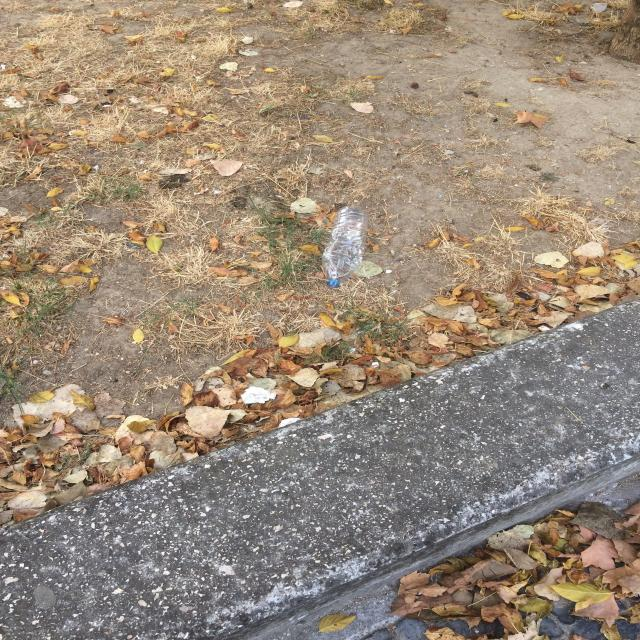Cigarette: (6, 338, 14, 345), (581, 209, 592, 211), (133, 18, 138, 22)
Clear plastic bottle: (322, 205, 369, 288)
